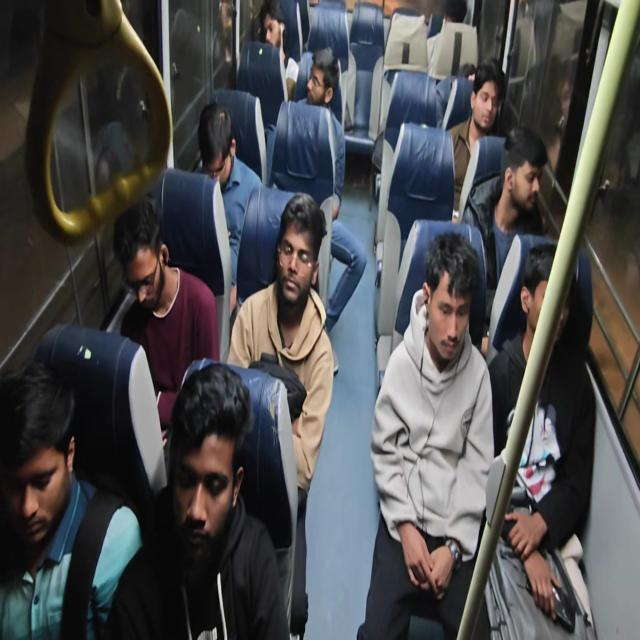person: (164, 367, 237, 560), (2, 367, 78, 543), (416, 218, 470, 358), (115, 193, 169, 322), (279, 202, 324, 315), (523, 253, 574, 344), (194, 95, 243, 187), (505, 136, 554, 223), (468, 67, 510, 139), (298, 48, 342, 114), (258, 0, 296, 75), (459, 53, 479, 84)
